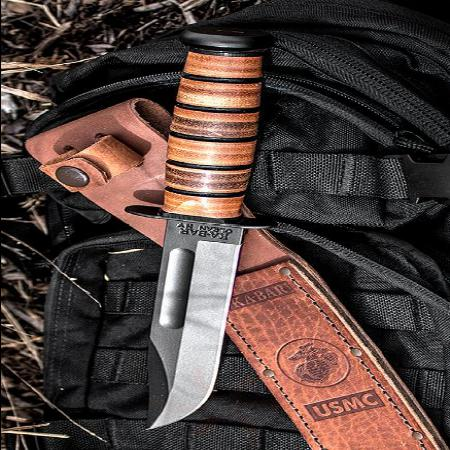long weapon: (129, 202, 270, 436)
